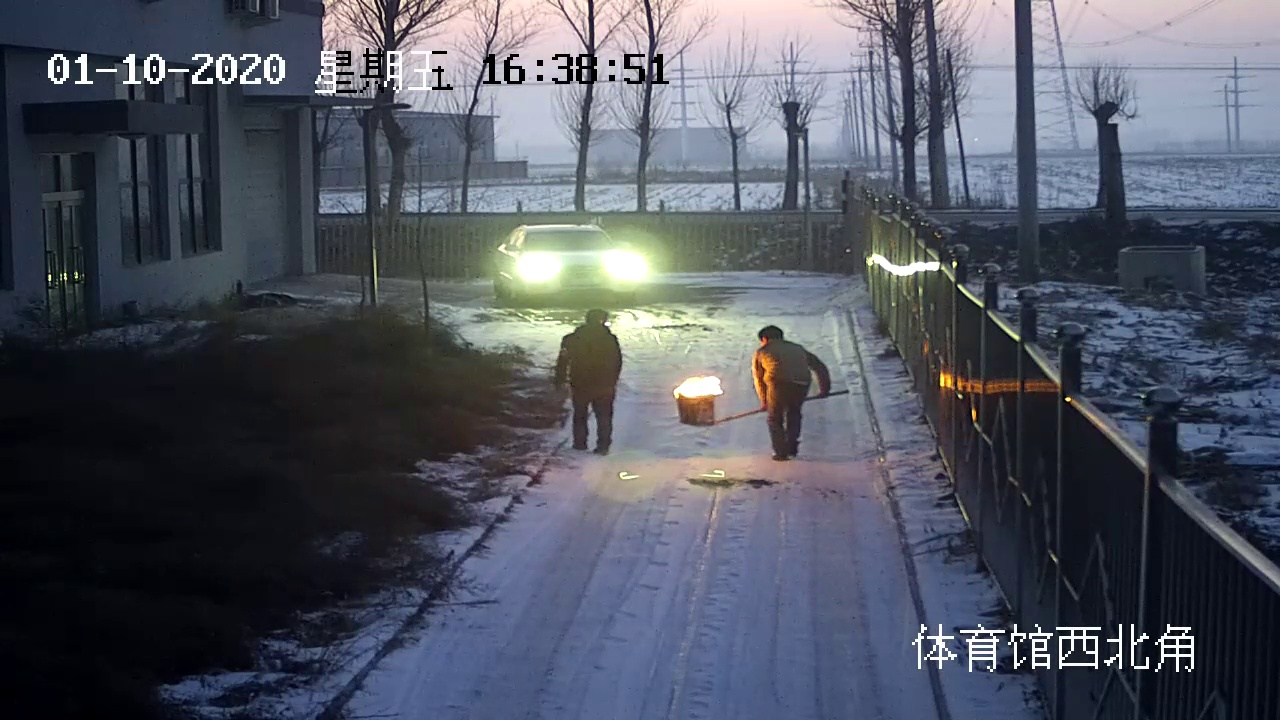fire: (676, 375, 728, 396)
